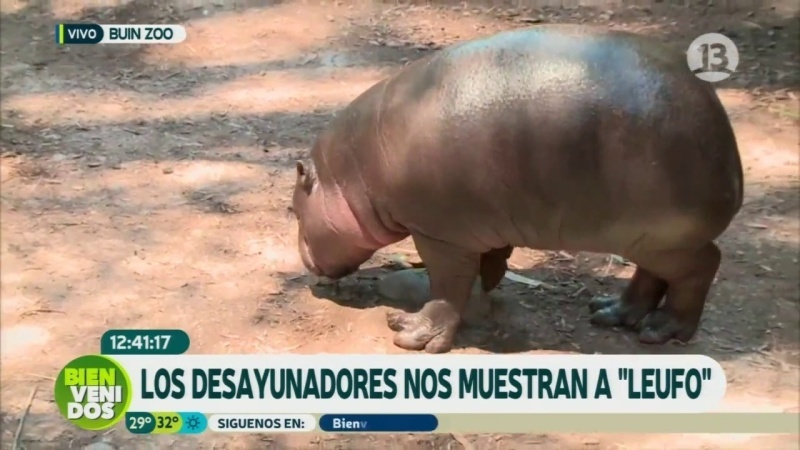hipopotamo: (278, 17, 750, 357)
